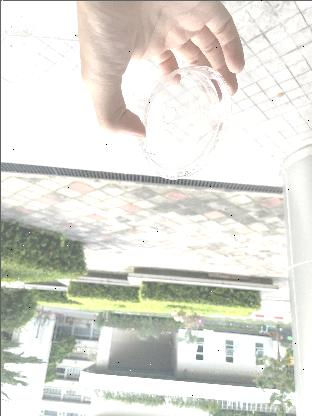Others: (127, 61, 231, 181)
